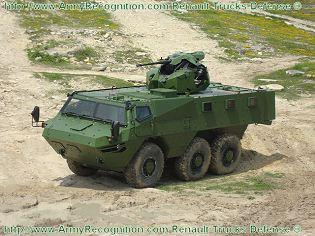armored_car: (44, 50, 280, 186)
